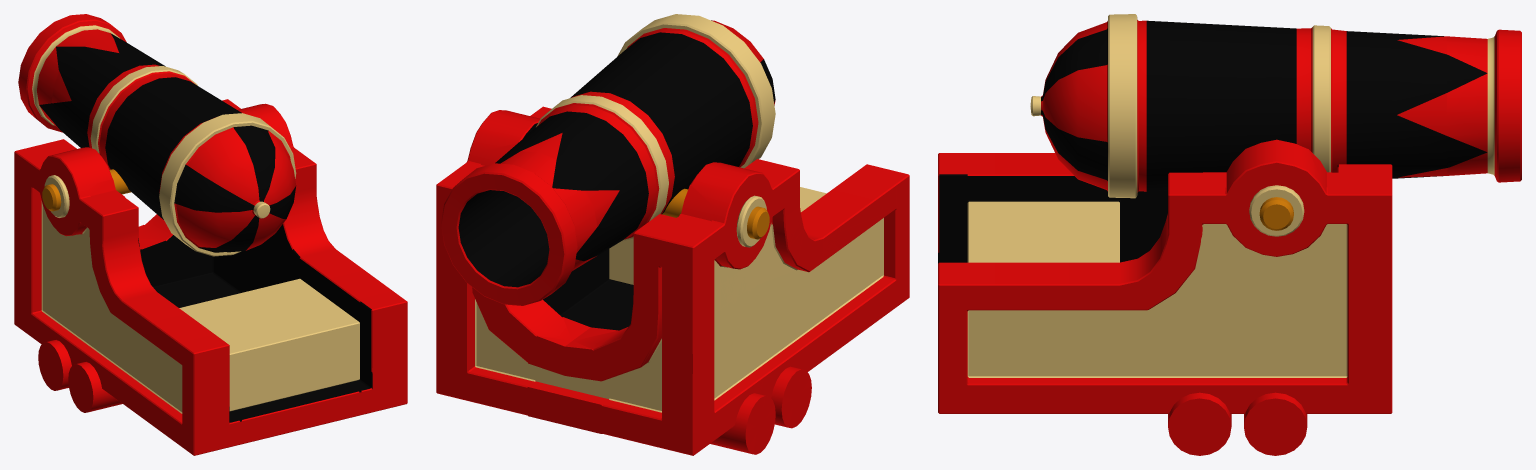
The model's file is cannon_02.fbx.
The picture shows the model from 3 angles, left to right: view 1: azimuth 30°, elevation 25°; view 2: azimuth 150°, elevation 25°; view 3: azimuth 270°, elevation 25°; orthographic projection. The views are drawn at different scales.
Visible parts, largest first — view 1: cannon_base, cannon, cannon_rails; view 2: cannon_base, cannon, cannon_rails; view 3: cannon_base, cannon, cannon_rails.
Boxes of the visible parts, x1,y1,x2,y2 form: cannon_base: (14,99,407,455); cannon: (18,14,296,256); cannon_rails: (38,340,122,412); cannon_base: (436,106,909,455); cannon: (441,14,775,305); cannon_rails: (710,366,811,454); cannon_base: (938,139,1392,413); cannon: (1030,14,1521,198); cannon_rails: (1168,392,1307,455).
Bounding box in the file's own units: 0.337 × 0.3877 × 0.5662.
